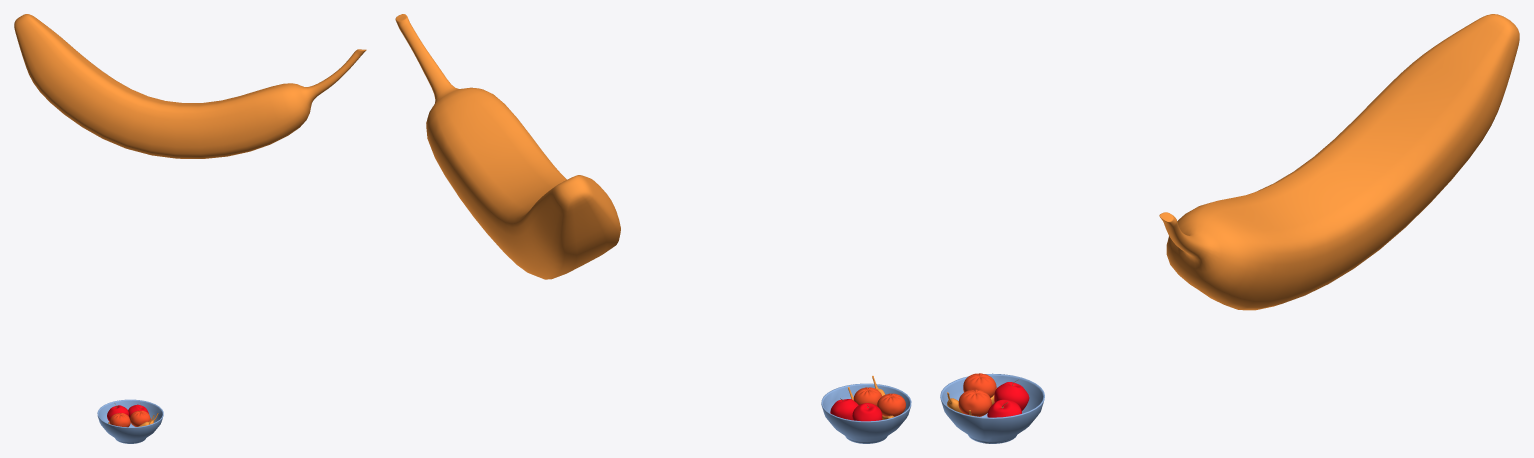
The model's file is bowl with fruits.fbx.
3 renders of one model, left to right at view 1: azimuth 30°, elevation 25°; view 2: azimuth 150°, elevation 25°; view 3: azimuth 270°, elevation 25°, orthographic. The views are drawn at different scales.
Visible parts, largest first — view 1: banana.001, apple_top.001; view 2: banana.001, apple_top.001; view 3: banana.001, apple_top.001.
Part boxes in pixels (box(x1,y1,x2,y2)): banana.001: box(14, 14, 366, 158); apple_top.001: box(97, 399, 163, 443); banana.001: box(395, 14, 620, 279); apple_top.001: box(821, 376, 911, 443); banana.001: box(1159, 14, 1519, 310); apple_top.001: box(940, 373, 1044, 443).
Size of the model in its own units: 422 by 368 by 419.
